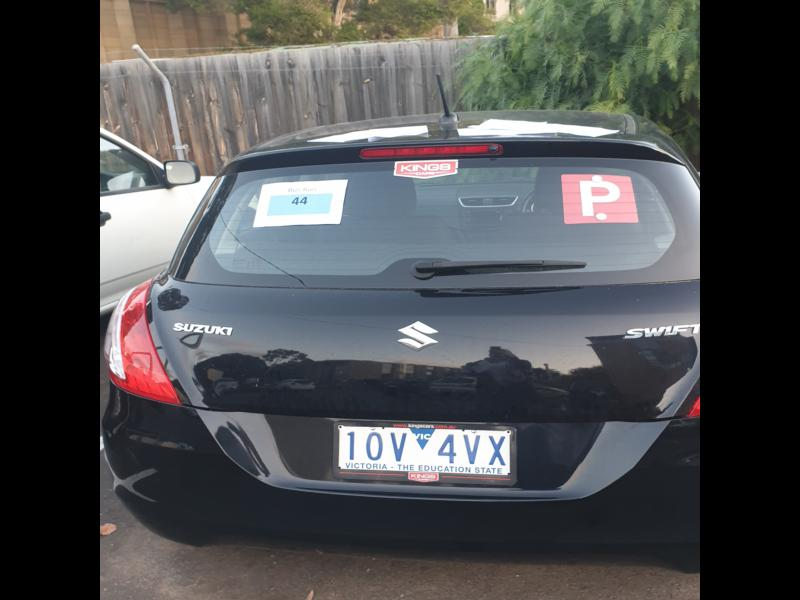BusRun: (266, 194, 333, 213)
PlateNo: (337, 419, 514, 474)
